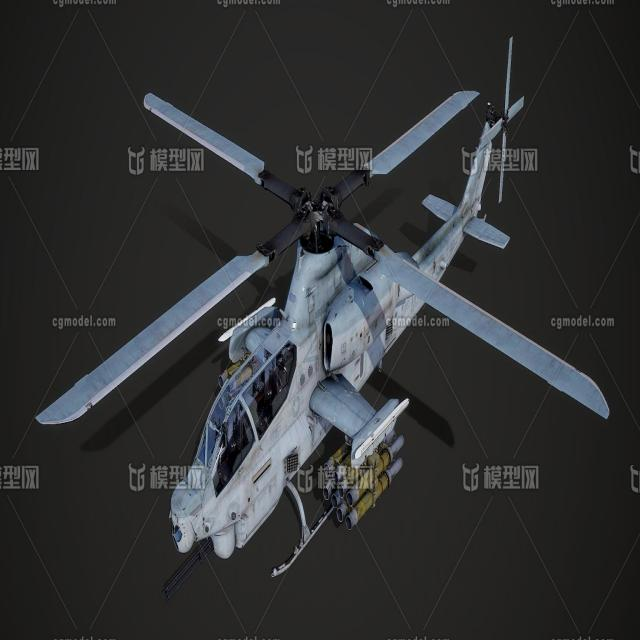MIL_HELO: (12, 61, 628, 606)
